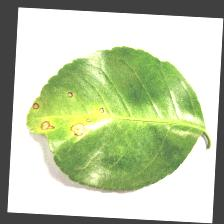canker: (23, 88, 112, 146)
